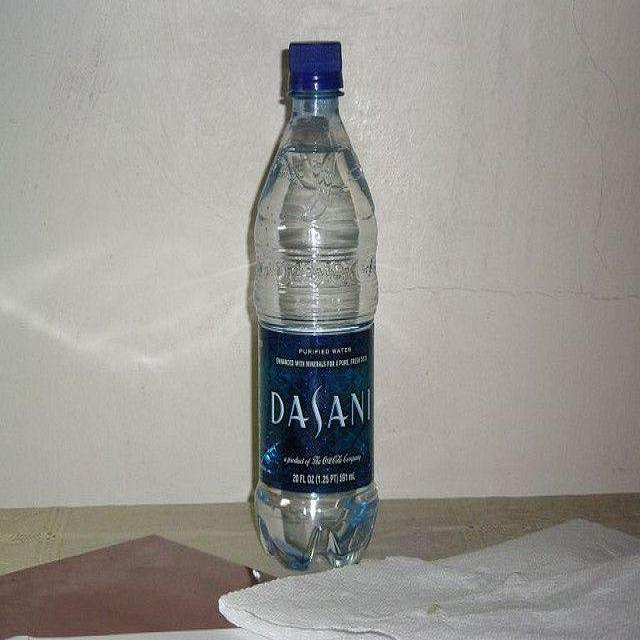bottle: (238, 34, 384, 578)
